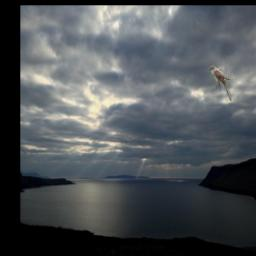Cuckoo: (209, 65, 233, 101)
